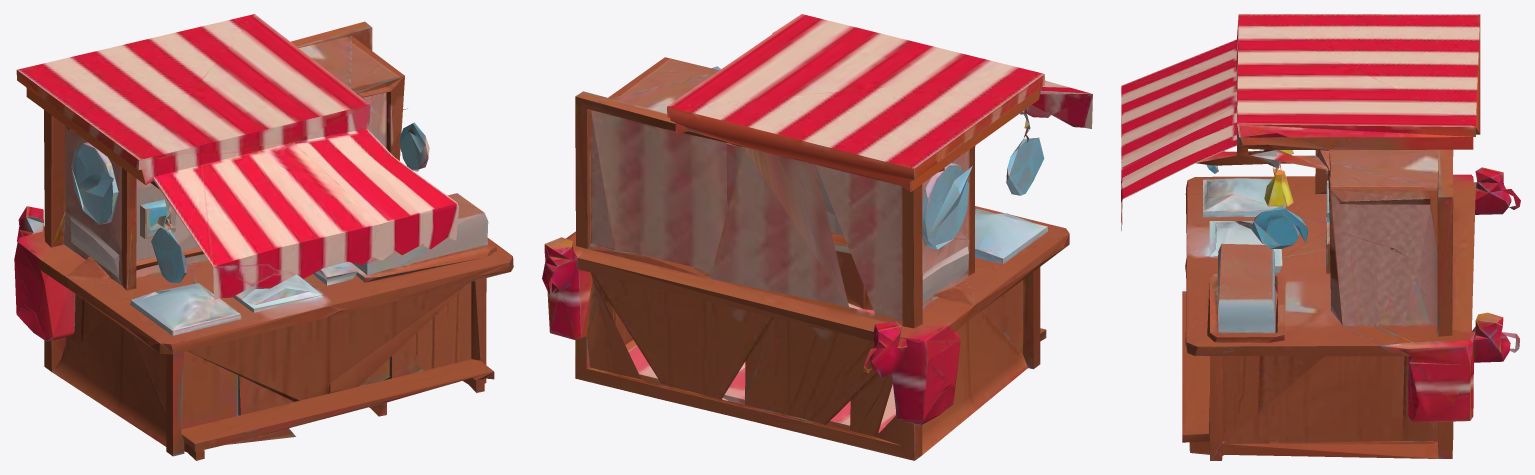
File: market_stall_fish.glb
3 renders of one model, left to right at view 1: azimuth 30°, elevation 25°; view 2: azimuth 150°, elevation 25°; view 3: azimuth 270°, elevation 25°, orthographic. The views are drawn at different scales.
Size of the model in its own units: 1.83 by 1.42 by 1.78.
1 material, 1 textured.
